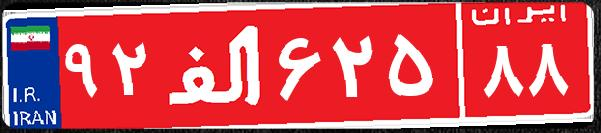2: (330, 28, 385, 110), (110, 28, 158, 105)
5: (385, 28, 445, 110)
6: (273, 28, 330, 110)
8: (475, 38, 525, 113), (525, 38, 570, 115)
9: (57, 26, 110, 107)
الف: (158, 15, 273, 115)
